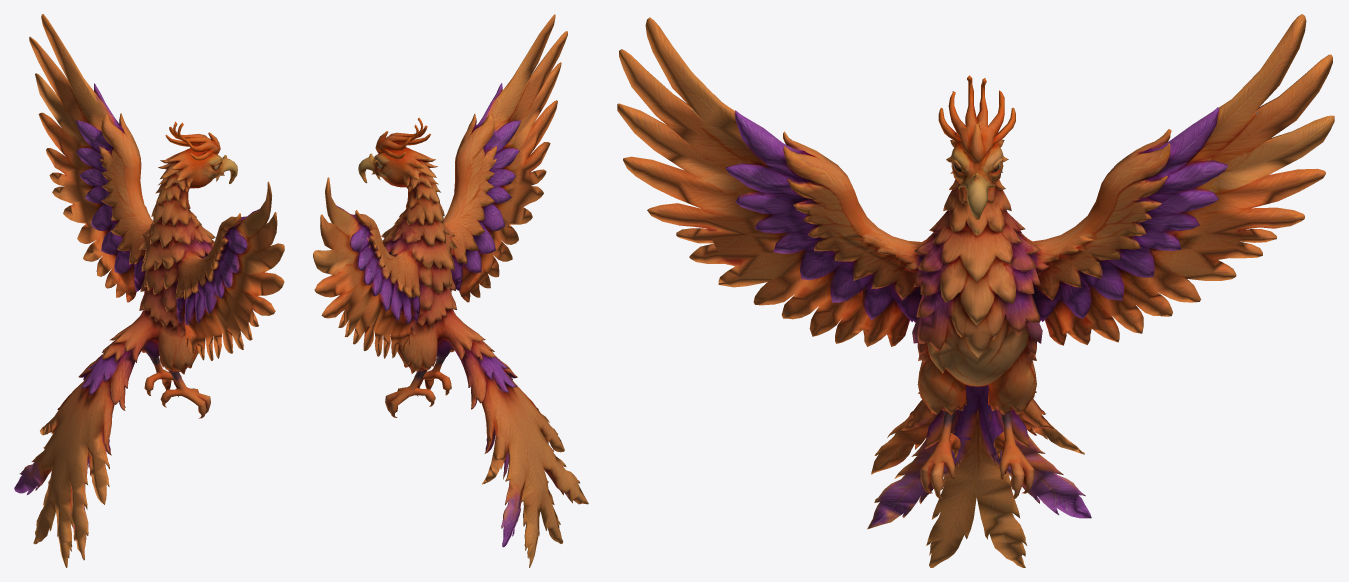
File: r33-phoenix.glb
3 renders of one model, left to right at view 1: azimuth 30°, elevation 25°; view 2: azimuth 150°, elevation 25°; view 3: azimuth 270°, elevation 25°, orthographic. The views are drawn at different scales.
Visible parts, largest first — view 1: tripo_node_490ba48e-be32-493b-8fa3-f6bcb842c272; view 2: tripo_node_490ba48e-be32-493b-8fa3-f6bcb842c272; view 3: tripo_node_490ba48e-be32-493b-8fa3-f6bcb842c272.
Boxes of the visible parts, x1,y1,x2,y2 form: tripo_node_490ba48e-be32-493b-8fa3-f6bcb842c272: (14, 14, 284, 567); tripo_node_490ba48e-be32-493b-8fa3-f6bcb842c272: (313, 14, 588, 567); tripo_node_490ba48e-be32-493b-8fa3-f6bcb842c272: (617, 14, 1334, 567).
Size of the model in its own units: 0.4434 by 0.9629 by 0.998.
1 material, 1 textured.
